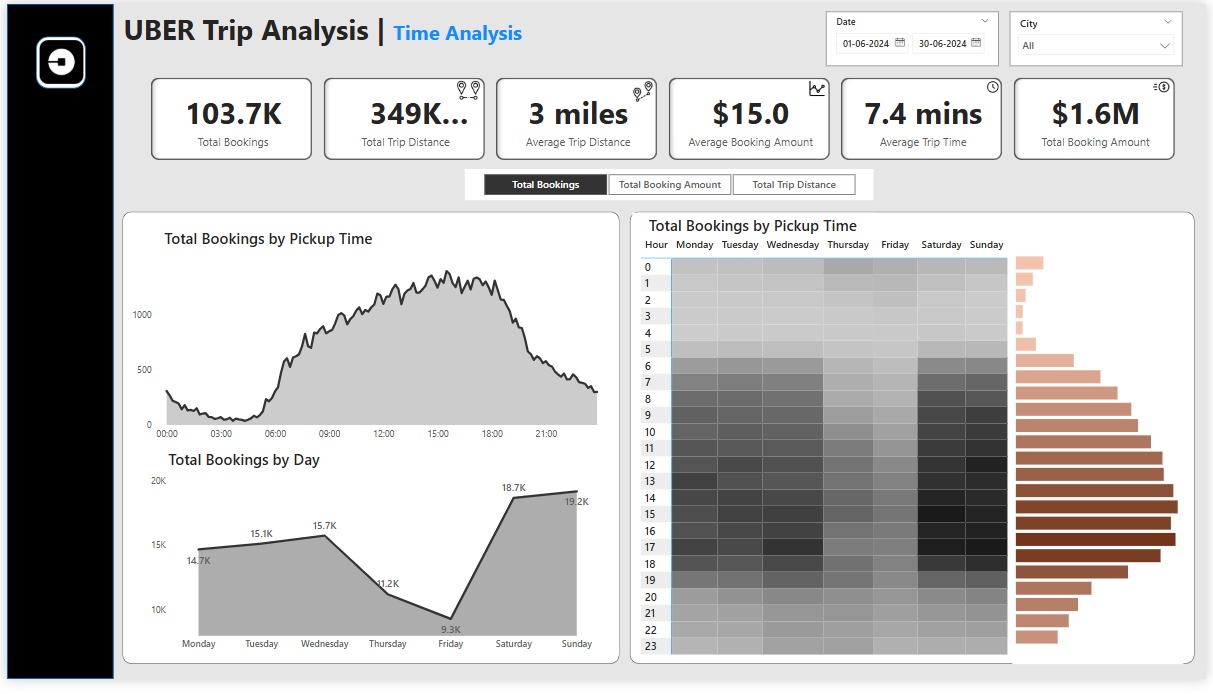

The page's visual inventory and layout, read from the dashboard file:
{"tool":"powerbi","page":{"name":"Time Analysis","canvas":[1600,900],"ordinal":1},"visuals":[{"type":"shape","box":[1.7,0,141.7,900],"z":0},{"type":"textbox","box":[151.3,3.1,940.1,70.3],"z":1000},{"type":"cardVisual","fields":{"Data":["Trip Details.Total Bookings","Trip Details.Total Trip Distance","Trip Details.Average Trip Distance","Trip Details.Average Booking Amount","Trip Details.Average Trip Time","Trip Details.Total Booking Amount"]},"box":[187.5,92.5,1380,120],"z":2000},{"type":"image","box":[1518.3,95,43.3,31.7],"z":3000},{"type":"image","box":[596.7,93.3,40,43.3],"z":4000},{"type":"image","box":[831.7,95,36.7,43.3],"z":5000},{"type":"image","box":[1303.3,95,25,31.7],"z":6000},{"type":"shape","box":[155,276.7,663.3,603.3],"z":7000},{"type":"image","box":[1065,86.7,33.3,51.7],"z":8000},{"type":"slicer","fields":{"Values":["Dynamic Measure.Dynamic Measure"]},"box":[611.7,220,545,41.7],"z":9000},{"type":"slicer","fields":{"Values":["Calendar Table.Date"]},"box":[1092.5,10,230,72.5],"z":10000},{"type":"slicer","fields":{"Values":["Location Table.City"]},"box":[1337.5,10,230,72.5],"z":11000},{"type":"areaChart","title":"Total Bookings by Pickup Time ","fields":{"Y":["Trip Details.Total Bookings"],"Category":["Trip Details.Pickup Time (bins)"]},"box":[163.3,341.7,645,250],"z":12000},{"type":"card","fields":{"Values":["Trip Details.Pickup Time Title"]},"box":[163.3,286.7,373.3,55],"z":13000},{"type":"areaChart","fields":{"Y":["Trip Details.Total Bookings"],"Category":["Calendar Table.Day Name"]},"box":[188.3,621.7,611.7,250],"z":14000},{"type":"card","fields":{"Values":["Trip Details.Day Title"]},"box":[170,590,295,36.7],"z":15000},{"type":"shape","box":[831.7,276.7,753.3,603.3],"z":16000},{"type":"pivotTable","fields":{"Values":["Trip Details.Total Bookings"],"Rows":["Trip Details.Pickup Hour"],"Columns":["Calendar Table.Day Name"]},"box":[841.7,305,536.7,571.7],"z":17000},{"type":"barChart","fields":{"Y":["Trip Details.Total Bookings"],"Category":["Trip Details.Pickup Hour"]},"box":[1341.7,323.3,228.3,556.7],"z":18000},{"type":"card","fields":{"Values":["Trip Details.Pickup Time Title"]},"box":[835,278.3,321.7,36.7],"z":19000},{"type":"shape","box":[39.2,43.7,66.4,69.4],"z":20000},{"type":"image","box":[39.2,43.7,67.9,67.9],"z":21000}]}

Visuals, with their boxes in screenshot pixels (x1, y1, x2, y2), scaled from the page's 1600x900 canvas onto the 1213x694 screenshot:
shape: left=1, top=0, right=109, bottom=693
textbox: left=115, top=2, right=827, bottom=57
cardVisual - Trip Details.Total Bookings x Trip Details.Total Trip Distance: left=142, top=71, right=1188, bottom=164
image: left=1151, top=73, right=1184, bottom=98
image: left=452, top=72, right=483, bottom=105
image: left=631, top=73, right=658, bottom=107
image: left=988, top=73, right=1007, bottom=98
shape: left=118, top=213, right=620, bottom=679
image: left=807, top=67, right=833, bottom=107
slicer - Dynamic Measure.Dynamic Measure: left=464, top=170, right=877, bottom=202
slicer - Calendar Table.Date: left=828, top=8, right=1003, bottom=64
slicer - Location Table.City: left=1014, top=8, right=1188, bottom=64
"Total Bookings by Pickup Time " areaChart: left=124, top=263, right=613, bottom=456
card - Trip Details.Pickup Time Title: left=124, top=221, right=407, bottom=263
areaChart - Trip Details.Total Bookings x Calendar Table.Day Name: left=143, top=479, right=606, bottom=672
card - Trip Details.Day Title: left=129, top=455, right=353, bottom=483
shape: left=631, top=213, right=1202, bottom=679
pivotTable - Trip Details.Total Bookings x Trip Details.Pickup Hour: left=638, top=235, right=1045, bottom=676
barChart - Trip Details.Total Bookings x Trip Details.Pickup Hour: left=1017, top=249, right=1190, bottom=679
card - Trip Details.Pickup Time Title: left=633, top=215, right=877, bottom=243
shape: left=30, top=34, right=80, bottom=87
image: left=30, top=34, right=81, bottom=86
